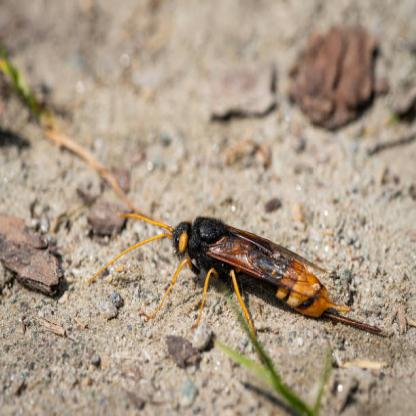sawfly: (94, 195, 355, 334)
